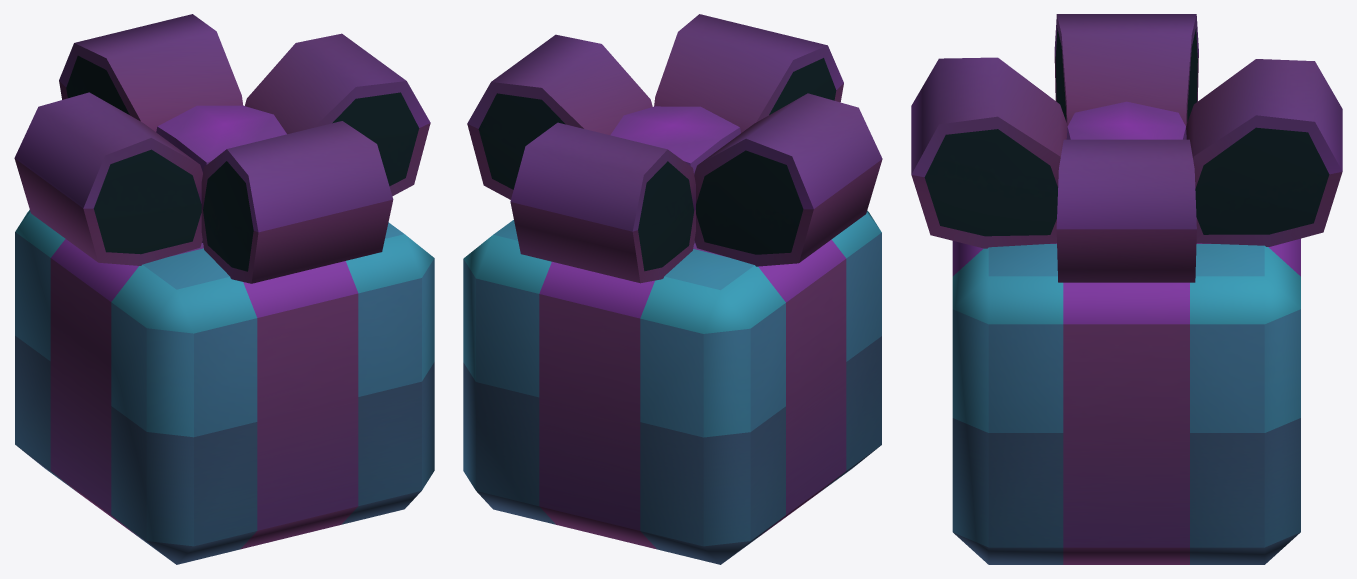
The model's file is presi_square_6_blue.fbx.
3 renders of one model, left to right at view 1: azimuth 30°, elevation 25°; view 2: azimuth 150°, elevation 25°; view 3: azimuth 270°, elevation 25°, orthographic. The views are drawn at different scales.
Visible parts, largest first — view 1: presi_square_6_blue; view 2: presi_square_6_blue; view 3: presi_square_6_blue.
Part boxes in pixels (<box>): presi_square_6_blue: <box>14,14,434,564</box>; presi_square_6_blue: <box>463,14,882,564</box>; presi_square_6_blue: <box>911,14,1342,564</box>.
Size of the model in its own units: 67.54 by 74 by 69.07.
Materials: 1 (1 with a texture image).
